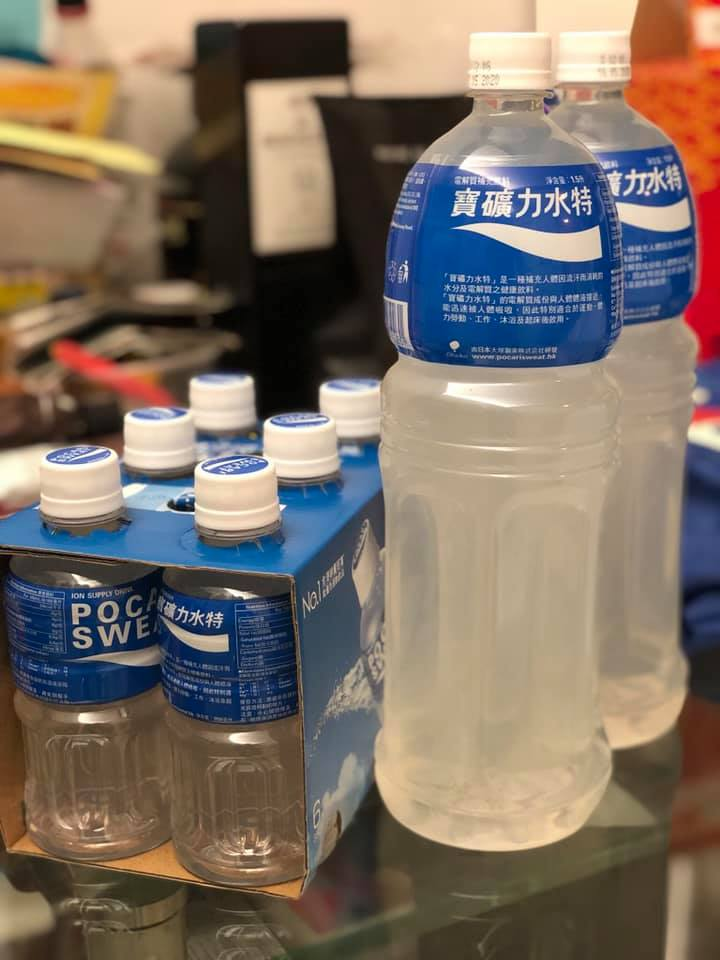POCARI SWEAT: (373, 38, 622, 854)
